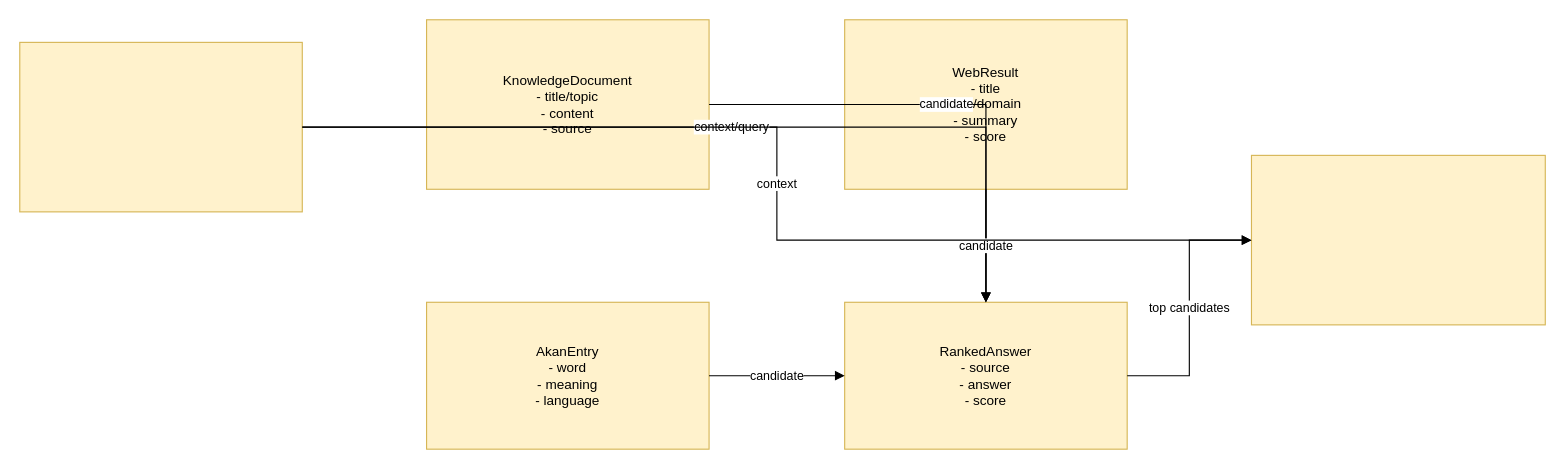
Image size: 1565x469. Some labels were removed from this diagram. Each missing label, with the centre of its shape:
ConversationRecord - question - topic - intent - language - timestamp: pixel 160 126
SynthesizedAnswer - answer - sources - confidence: pixel 1397 239
